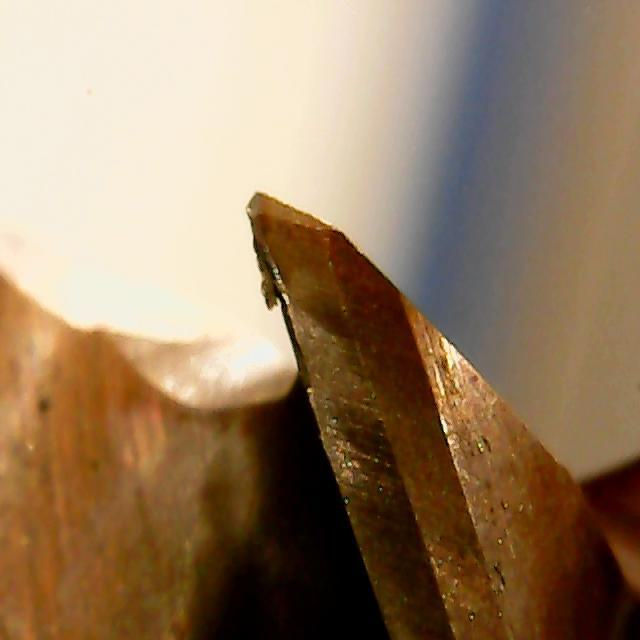Tool-wear-class-1: (224, 181, 406, 484)
